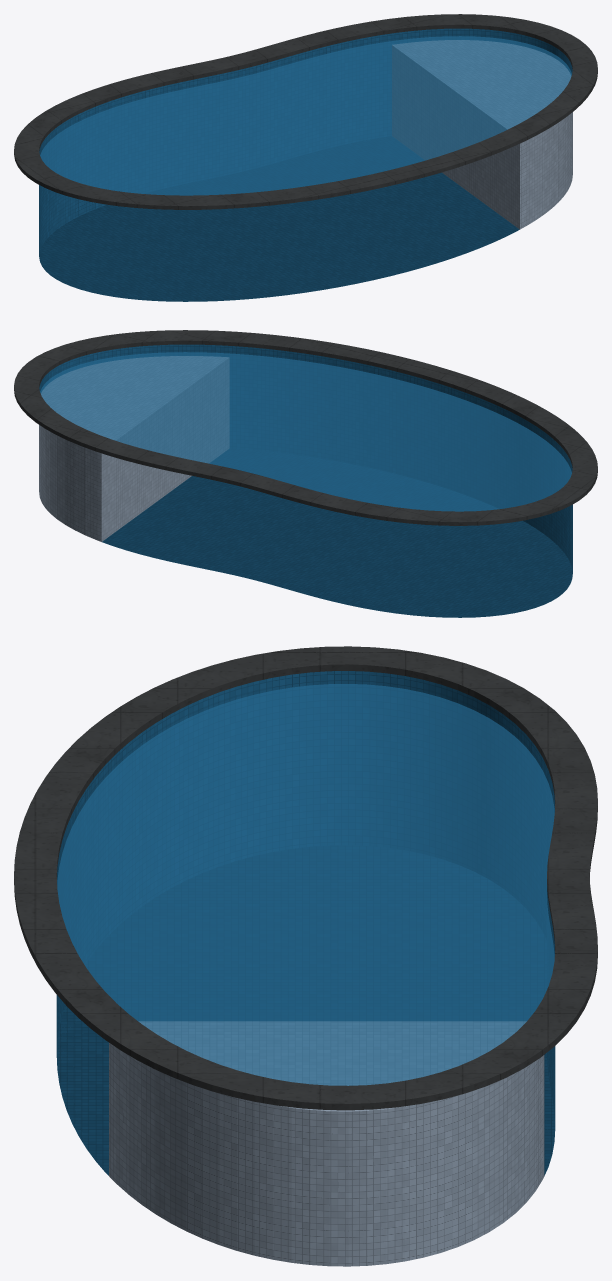
File: haricot-7x3-5.glb
The picture shows the model from 3 angles, top to bottom: view 1: azimuth 30°, elevation 25°; view 2: azimuth 150°, elevation 25°; view 3: azimuth 270°, elevation 25°; orthographic projection. The views are drawn at different scales.
Visible parts, largest first — view 1: eau, fond, bassin, plage, margelle; view 2: eau, fond, bassin, plage, margelle; view 3: eau, bassin, plage, fond, margelle.
Boxes of the visible parts, x1,y1,x2,y2 form: eau: [40, 36, 571, 195]; fond: [39, 136, 519, 301]; bassin: [39, 28, 572, 255]; plage: [392, 40, 572, 229]; margelle: [14, 14, 597, 209]; eau: [40, 352, 571, 511]; fond: [102, 448, 572, 617]; bassin: [39, 344, 572, 573]; plage: [39, 356, 229, 541]; margelle: [14, 330, 597, 525]; eau: [57, 684, 554, 1085]; bassin: [56, 671, 555, 1126]; plage: [109, 1021, 544, 1266]; fond: [56, 845, 555, 1175]; margelle: [14, 646, 597, 1110].
Bounding box in the file's own units: 7.6 × 1.4 × 4.1.
5 materials, 4 textured.
